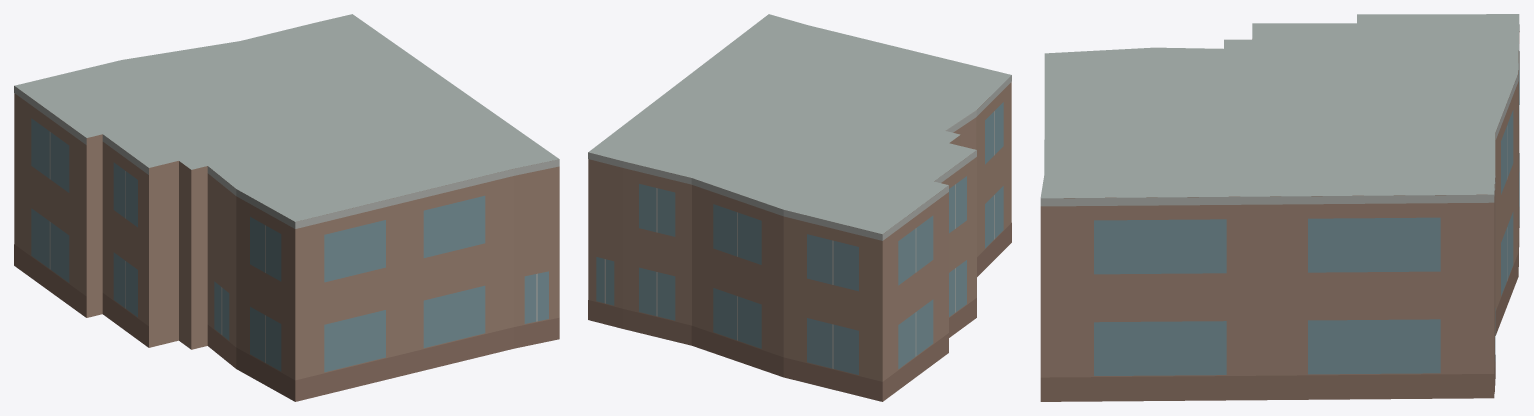
File: survey-upis-32819659.glb
3 renders of one model, left to right at view 1: azimuth 30°, elevation 25°; view 2: azimuth 150°, elevation 25°; view 3: azimuth 270°, elevation 25°, orthographic. The views are drawn at different scales.
Visible parts, largest first — view 1: survey-upis-32819659.tmp; view 2: survey-upis-32819659.tmp; view 3: survey-upis-32819659.tmp.
Part boxes in pixels (left/top/right/bottom): survey-upis-32819659.tmp: left=14, top=14, right=559, bottom=401; survey-upis-32819659.tmp: left=588, top=14, right=1011, bottom=401; survey-upis-32819659.tmp: left=1040, top=14, right=1519, bottom=401.
Bounding box in the file's own units: 11.85 × 6.1 × 13.02.
